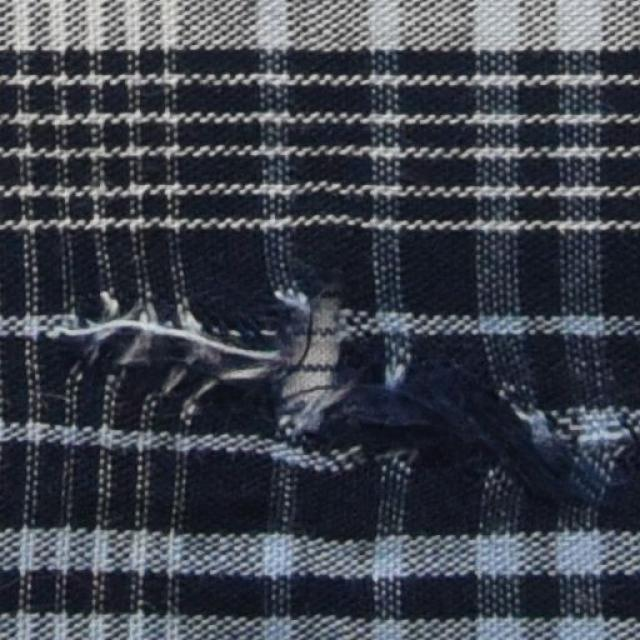Hole: (281, 303, 344, 430)
Snag: (323, 339, 629, 517), (75, 284, 291, 423)
